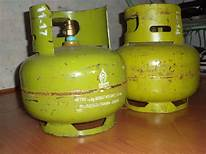gas_ijo: (18, 3, 126, 136), (115, 4, 199, 113)
